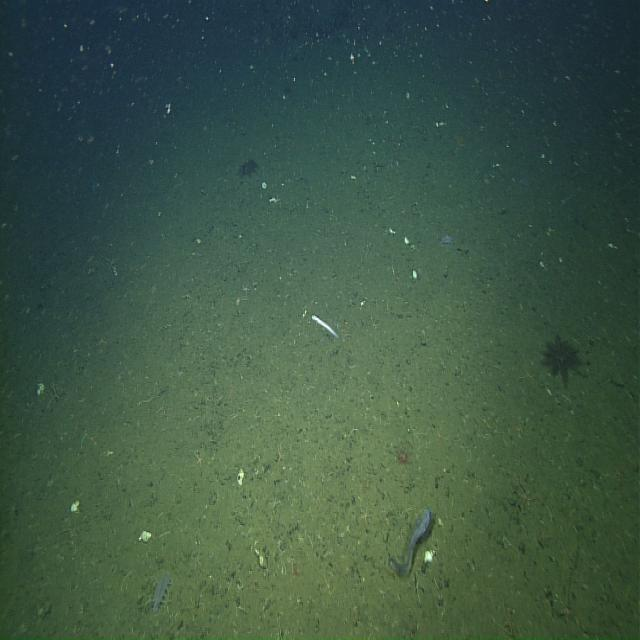Brittle Star: (190, 444, 208, 473), (470, 474, 487, 500), (273, 440, 288, 468), (358, 502, 373, 528)
Not Brittle Star: (386, 502, 434, 578), (538, 330, 584, 388), (148, 567, 175, 619), (309, 310, 342, 346), (237, 156, 260, 182), (438, 230, 456, 250), (255, 546, 268, 568), (138, 526, 153, 545), (236, 465, 246, 488)
